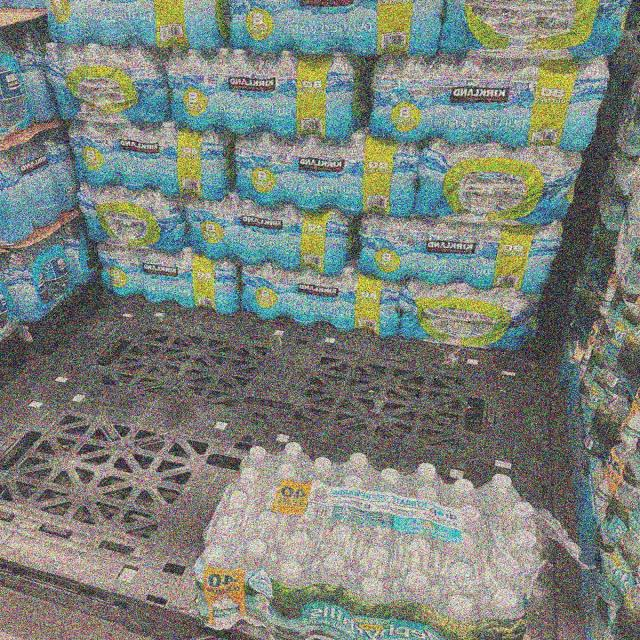igps: (0, 300, 595, 640)
